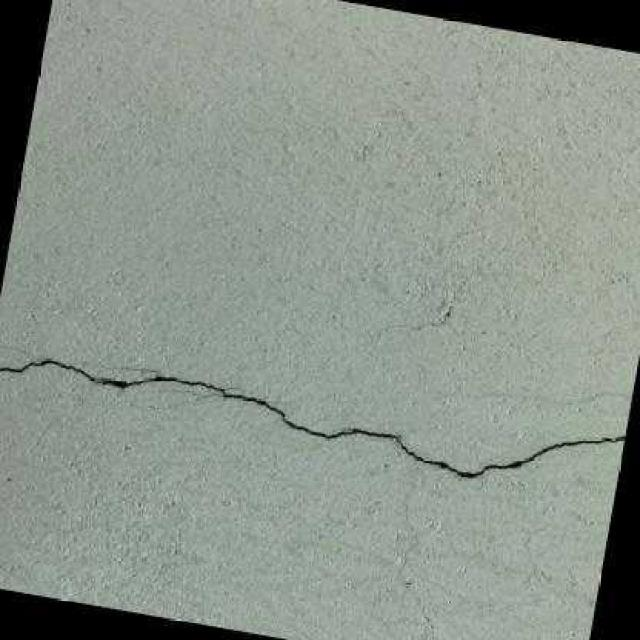D00: (0, 355, 625, 478)
